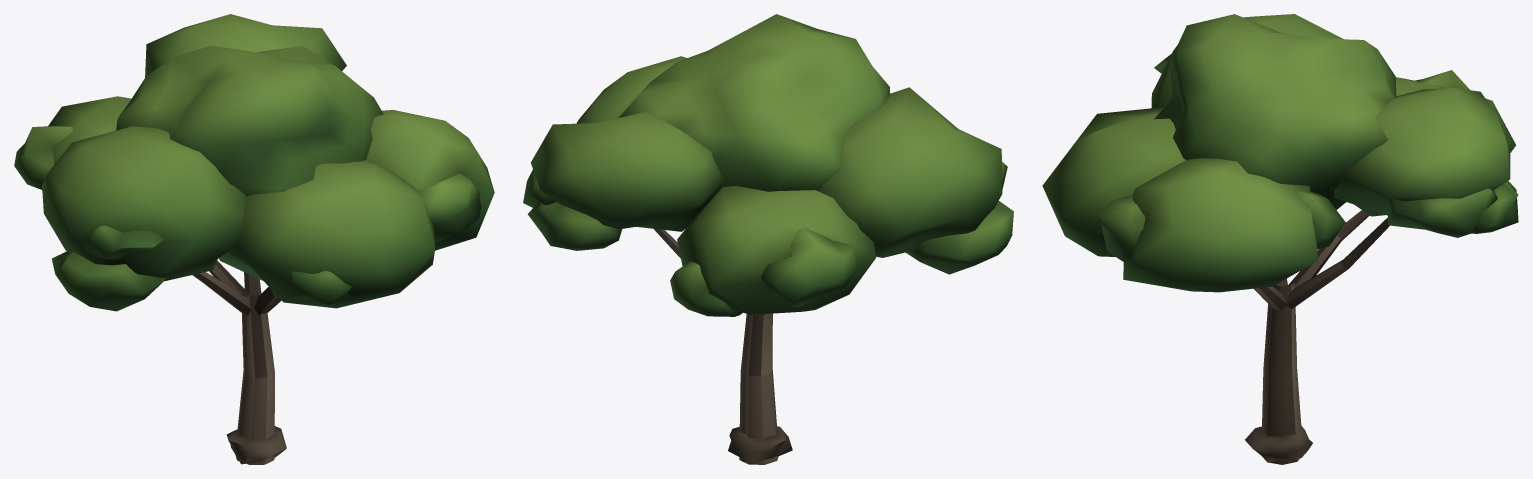
File: broadleaf_tree.glb
3 views of the same model, side by side, from view 1: azimuth 30°, elevation 25°; view 2: azimuth 150°, elevation 25°; view 3: azimuth 270°, elevation 25° (orthographic). The views are drawn at different scales.
Parts seen in each view (by area): view 1: broadleaf_tree_mesh; view 2: broadleaf_tree_mesh; view 3: broadleaf_tree_mesh.
Part boxes in pixels (bbox=[...]): broadleaf_tree_mesh: bbox=[14, 14, 494, 464]; broadleaf_tree_mesh: bbox=[523, 14, 1013, 464]; broadleaf_tree_mesh: bbox=[1042, 14, 1518, 464].
Bounding box in the file's own units: 11.6 × 10.93 × 11.27.
